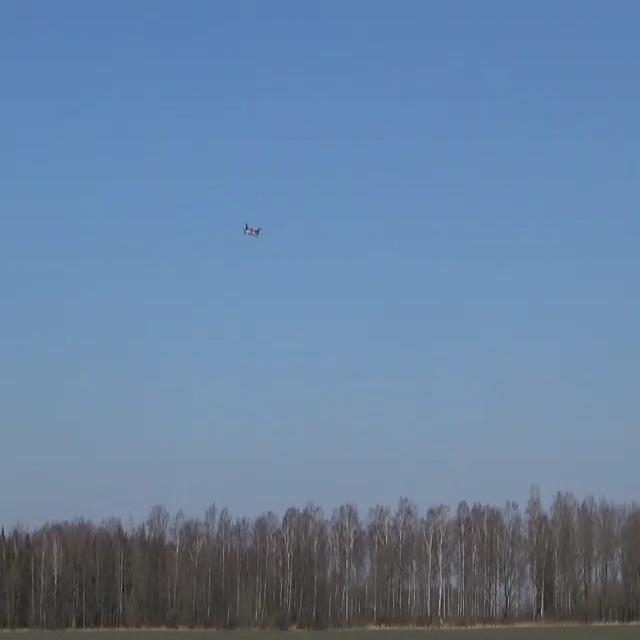drone: (242, 222, 262, 238)
